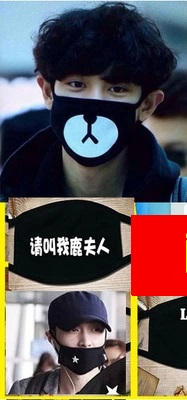face_mask: (56, 46, 140, 164), (54, 308, 106, 372)
